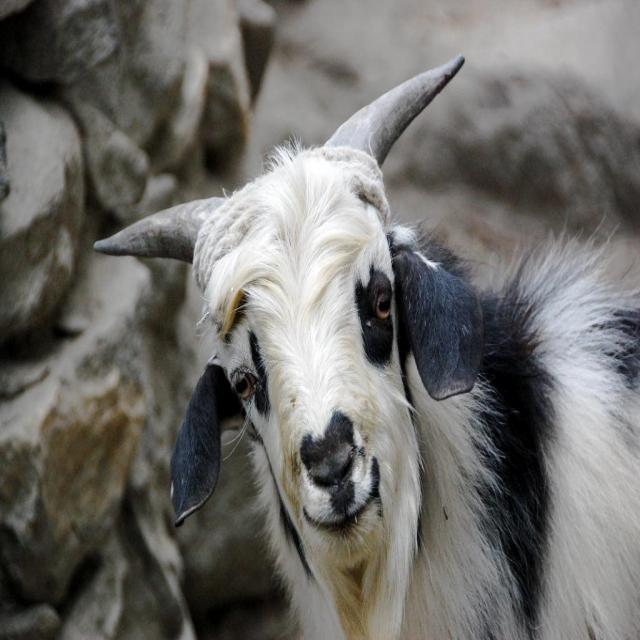Goat: (112, 53, 633, 640)
